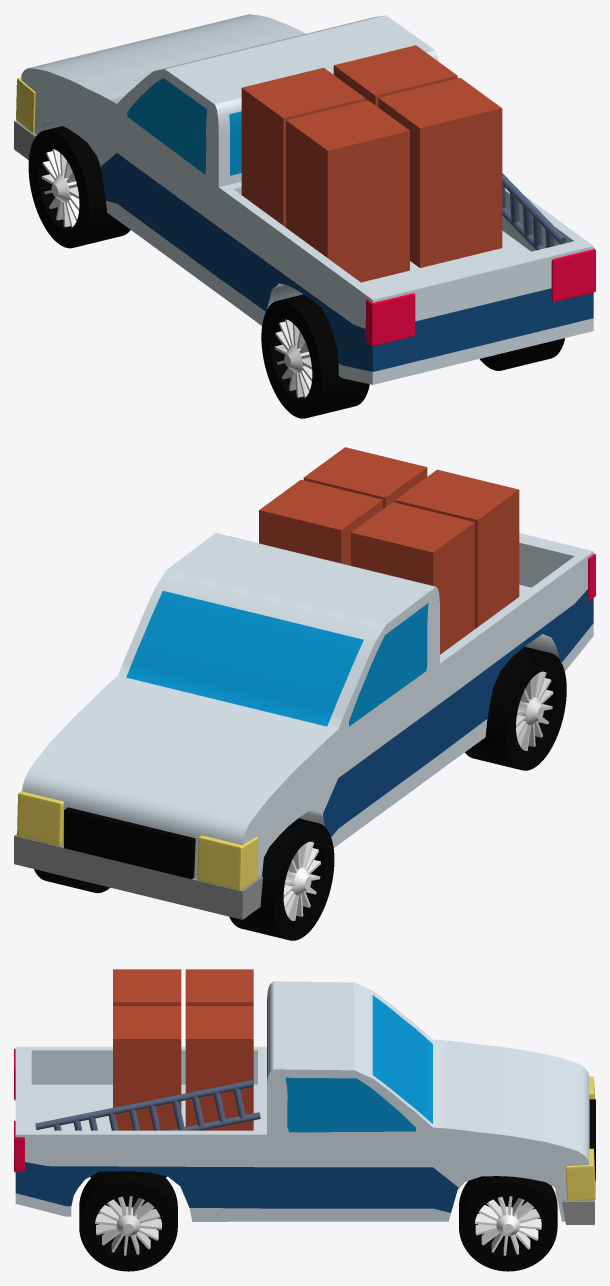
The model's file is Truck.glb.
3 views of the same model, one above another, from view 1: azimuth 30°, elevation 25°; view 2: azimuth 150°, elevation 25°; view 3: azimuth 270°, elevation 25° (orthographic). The views are drawn at different scales.
Visible parts, largest first — view 1: TruckBody, Box.3, Box.4, Box, BackWheels, FrontWheels, BackLights, Box.2, Cylinder.001, FrontRims, BackRims, FrontLights (+1 smaller); view 2: TruckBody, Box, Box.3, FrontBumper, Box.2, FrontWheels, BackWheels, FrontGrill, FrontLights, Box.4, BackRims, FrontRims; view 3: TruckBody, Box.4, Box.2, BackWheels, FrontWheels, Cylinder.001, FrontRims, BackRims, Box, Box.3, FrontLights, FrontBumper (+1 smaller).
Part boxes in pixels (x1=…): TruckBody: x1=21, y1=14, x2=593, y2=384; Box.3: x1=286, y1=100, x2=409, y2=282; Box.4: x1=378, y1=77, x2=502, y2=267; Box: x1=241, y1=67, x2=365, y2=227; BackWheels: x1=261, y1=294, x2=564, y2=418; FrontWheels: x1=28, y1=126, x2=130, y2=248; BackLights: x1=365, y1=248, x2=595, y2=346; Box.2: x1=333, y1=45, x2=457, y2=106; Cylinder.001: x1=502, y1=173, x2=566, y2=250; FrontRims: x1=42, y1=149, x2=79, y2=227; BackRims: x1=274, y1=319, x2=312, y2=398; FrontLights: x1=16, y1=77, x2=35, y2=132; TruckBody: x1=22, y1=533, x2=593, y2=878; Box: x1=351, y1=502, x2=474, y2=654; Box.3: x1=395, y1=469, x2=519, y2=628; FrontBumper: x1=14, y1=834, x2=262, y2=919; Box.2: x1=259, y1=479, x2=382, y2=565; FrontWheels: x1=34, y1=818, x2=334, y2=940; BackWheels: x1=465, y1=647, x2=566, y2=770; FrontGrill: x1=64, y1=807, x2=195, y2=879; FrontLights: x1=17, y1=791, x2=258, y2=890; Box.4: x1=303, y1=447, x2=427, y2=508; BackRims: x1=516, y1=671, x2=553, y2=750; FrontRims: x1=283, y1=841, x2=320, y2=920; TruckBody: x1=15, y1=981, x2=589, y2=1221; Box.4: x1=113, y1=1006, x2=181, y2=1130; Box.2: x1=185, y1=1006, x2=253, y2=1130; BackWheels: x1=79, y1=1171, x2=177, y2=1271; FrontWheels: x1=459, y1=1176, x2=557, y2=1271; Cylinder.001: x1=35, y1=1080, x2=260, y2=1130; FrontRims: x1=474, y1=1196, x2=541, y2=1255; BackRims: x1=95, y1=1196, x2=161, y2=1255; Box: x1=185, y1=969, x2=253, y2=1005; Box.3: x1=113, y1=969, x2=181, y2=1005; FrontLights: x1=565, y1=1076, x2=595, y2=1200; FrontBumper: x1=561, y1=1200, x2=594, y2=1224.
Size of the model in its own units: 3.38 by 3.37 by 8.27.
